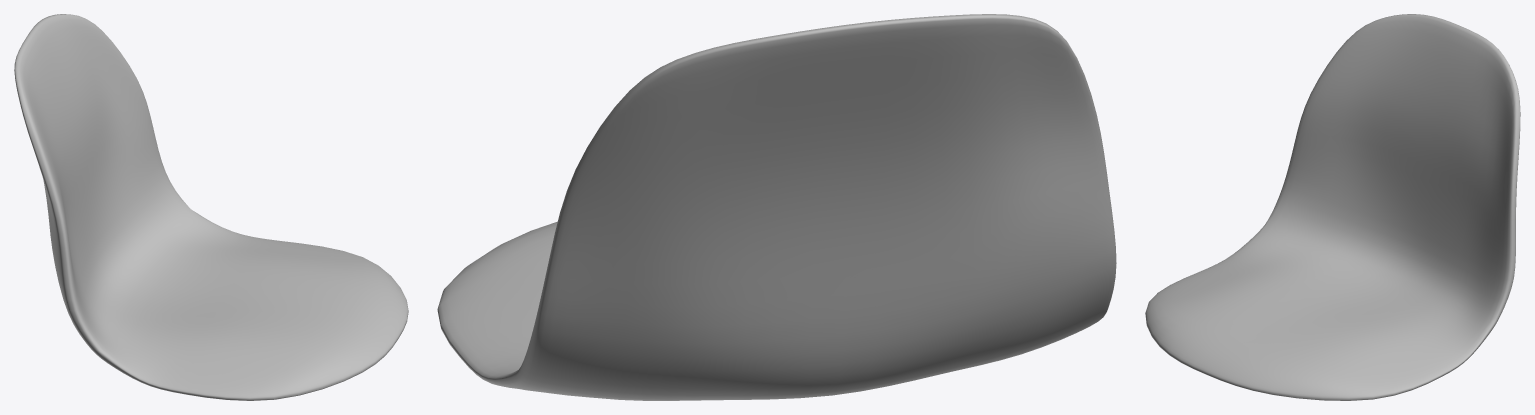
File: tablechair_0202_seat.glb
3 views of the same model, side by side, from view 1: azimuth 30°, elevation 25°; view 2: azimuth 150°, elevation 25°; view 3: azimuth 270°, elevation 25° (orthographic). The views are drawn at different scales.
Visible parts, largest first — view 1: tablechair_0202_seat; view 2: tablechair_0202_seat; view 3: tablechair_0202_seat.
Part boxes in pixels (x1,y1,x2,y2): tablechair_0202_seat: (14, 14, 408, 400); tablechair_0202_seat: (437, 14, 1116, 400); tablechair_0202_seat: (1145, 14, 1520, 400).
Size of the model in its own units: 0.5297 by 0.3776 by 0.5299.
1 material, 1 textured.
